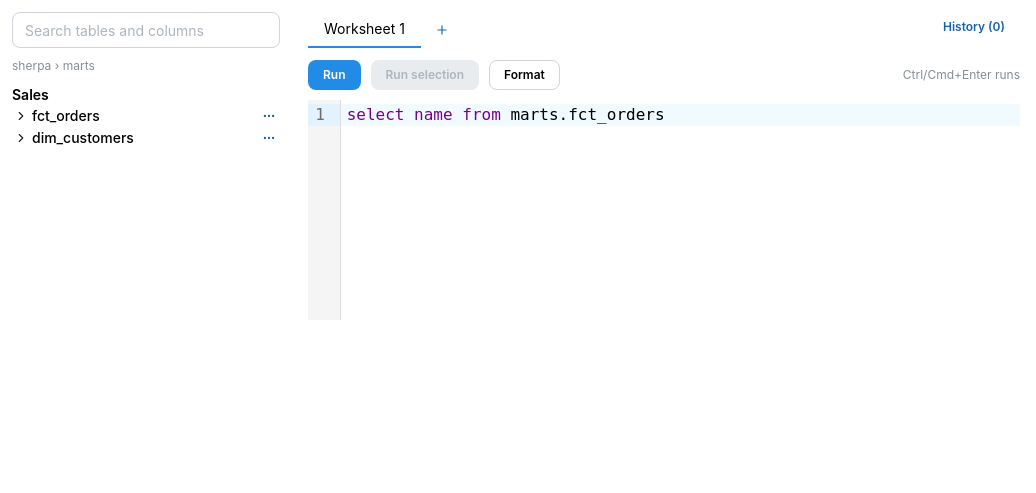
Test: Explorer results › keeps no result row in the stored state, only the SQL and a row count (UI spec §7)
The width and height of the screenshot is (1036, 493).
Click the button "Run".
click(334, 75)  # box x1=308 y1=60 x2=360 y2=90
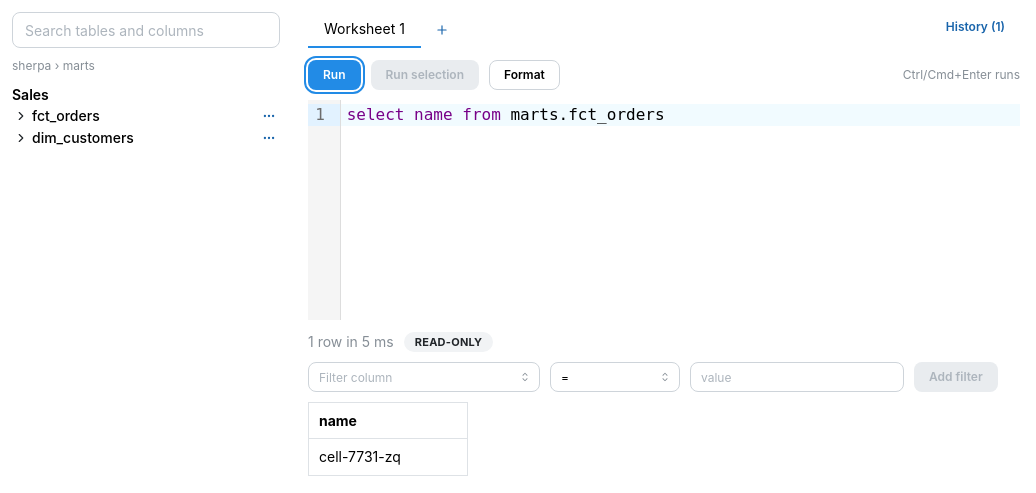
Check: the text "cell-7731-zq" is shown, box x1=308 y1=439 x2=468 y2=475
